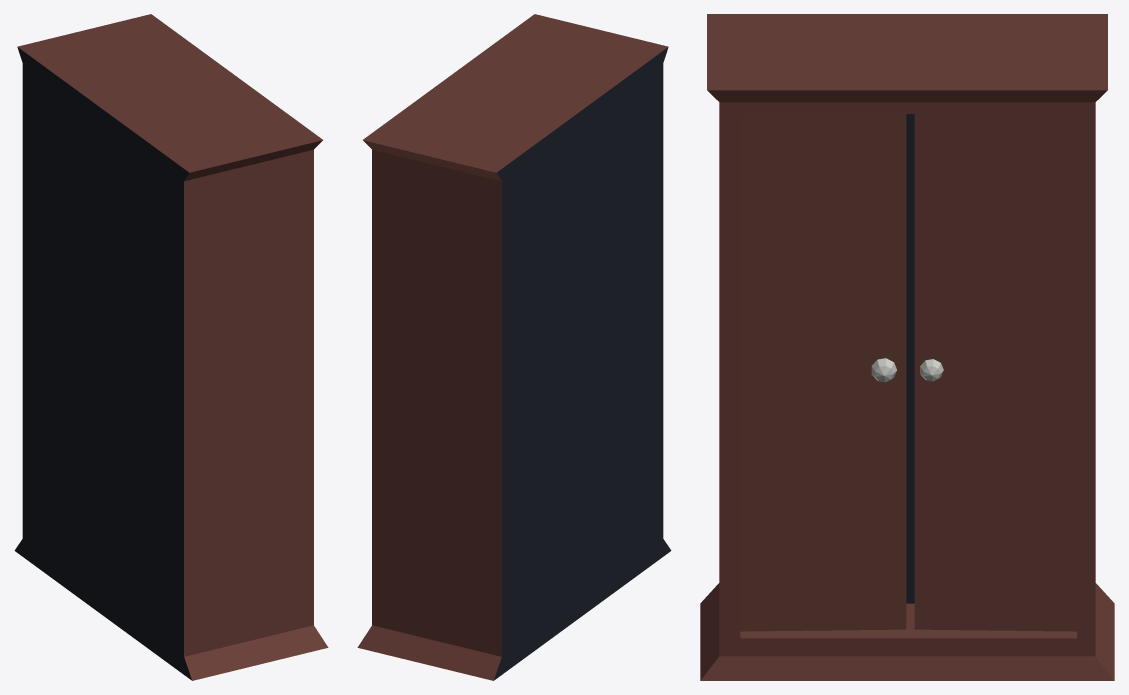
The model's file is ormar.fbx.
3 views of the same model, side by side, from view 1: azimuth 30°, elevation 25°; view 2: azimuth 150°, elevation 25°; view 3: azimuth 270°, elevation 25° (orthographic). The views are drawn at different scales.
Parts seen in each view (by area): view 1: Cube.001; view 2: Cube.001; view 3: Cube.001.
Boxes of the visible parts, x1,y1,x2,y2 form: Cube.001: (14, 14, 328, 680); Cube.001: (357, 14, 671, 680); Cube.001: (700, 14, 1114, 680).
Bounding box in the file's own units: 130 × 461 × 294.
Materials: 1 (1 with a texture image).
